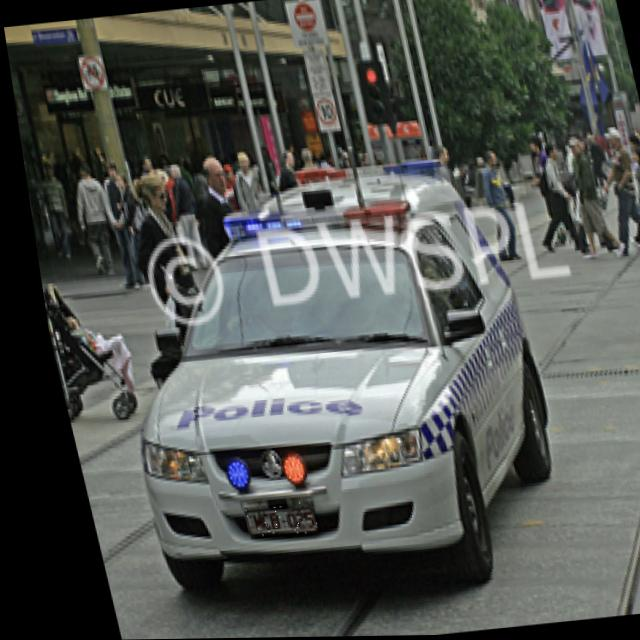license_plate: (226, 501, 304, 540)
